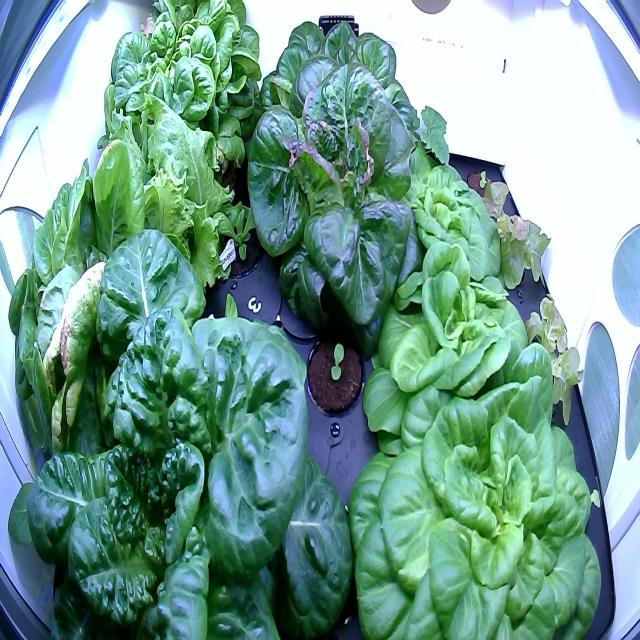Ready: (4, 222, 357, 639), (5, 141, 222, 448), (238, 58, 452, 369), (101, 0, 267, 205), (251, 11, 428, 199)
germination: (298, 317, 372, 425), (462, 157, 502, 220)
young: (337, 339, 607, 634), (354, 232, 561, 442), (375, 141, 508, 309), (206, 181, 265, 285)
